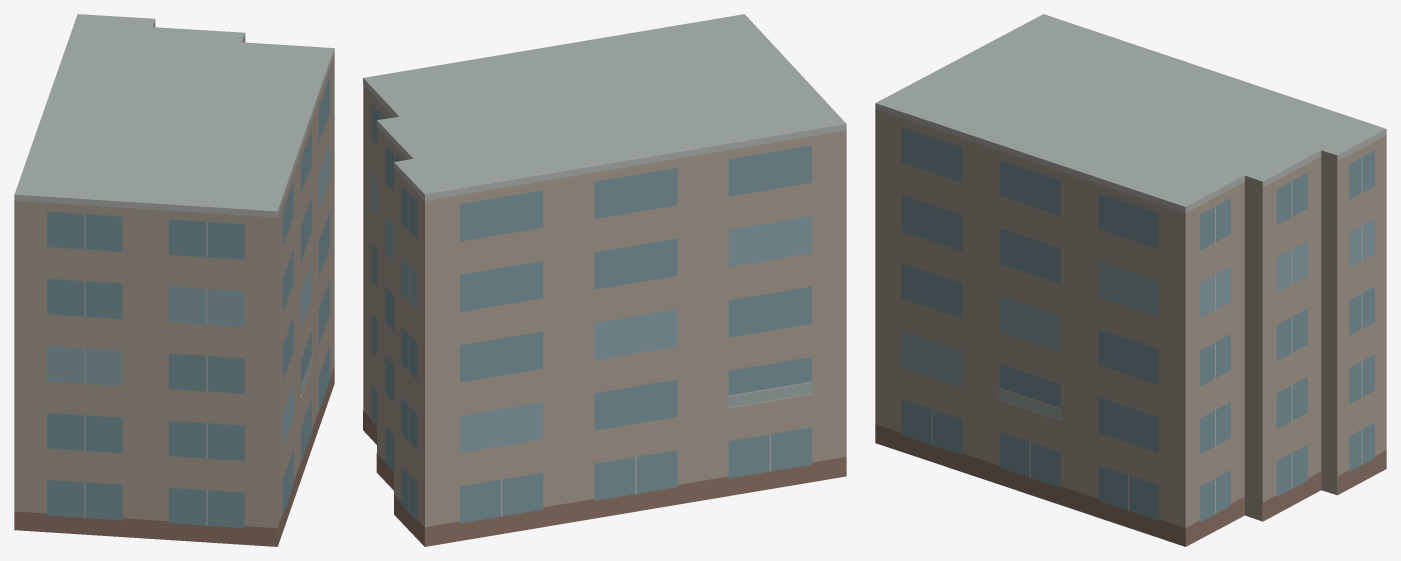
Rendered from survey-upis-32699967.glb.
3 renders of one model, left to right at view 1: azimuth 30°, elevation 25°; view 2: azimuth 150°, elevation 25°; view 3: azimuth 270°, elevation 25°, orthographic. The views are drawn at different scales.
Parts seen in each view (by area): view 1: survey-upis-32699967.tmp; view 2: survey-upis-32699967.tmp; view 3: survey-upis-32699967.tmp.
Part boxes in pixels (left/top/right/bottom): survey-upis-32699967.tmp: left=14, top=14, right=334, bottom=546; survey-upis-32699967.tmp: left=363, top=14, right=846, bottom=546; survey-upis-32699967.tmp: left=875, top=14, right=1386, bottom=546.
Bounding box in the file's own units: 16.26 × 13.35 × 18.21.
